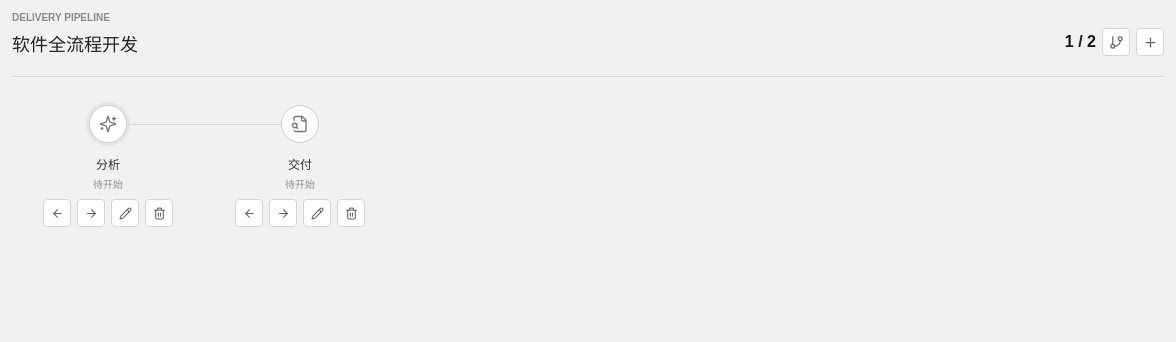
Test: RequirementWorkflowNodeEditor transient command failures › publishes a safe Toast when saving an edge fails
This screenshot has width=1176, height=342.
Click the button named "编辑流程连线": coordinates (1116, 42) left=1102, top=28, right=1130, bottom=56
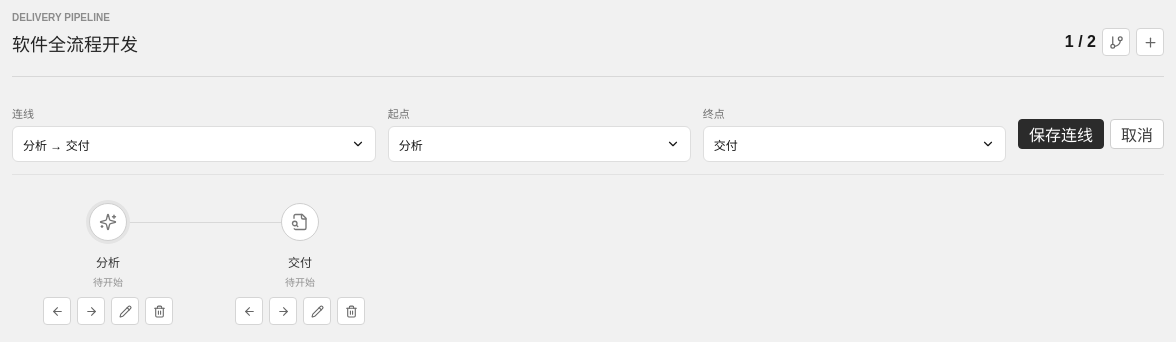
Click the button "保存连线": coordinates (1061, 134) left=1018, top=118, right=1104, bottom=148
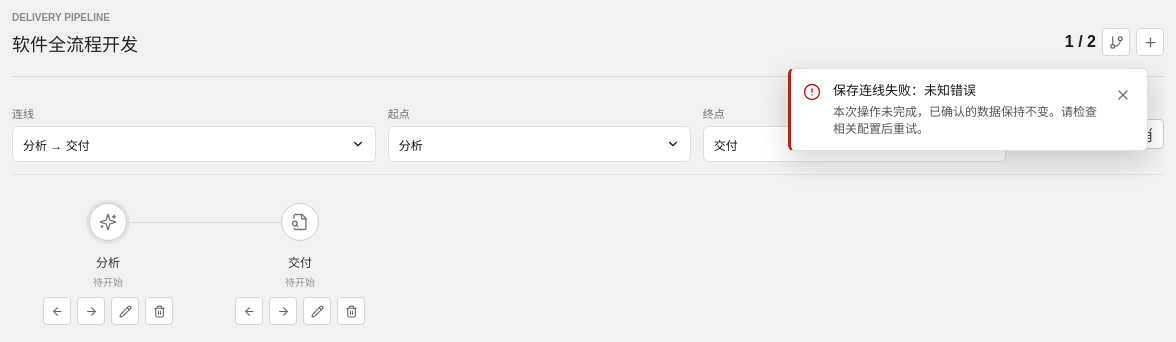
expect the message shows "保存连线失败：未知错误": met, box left=833, top=83, right=976, bottom=98
